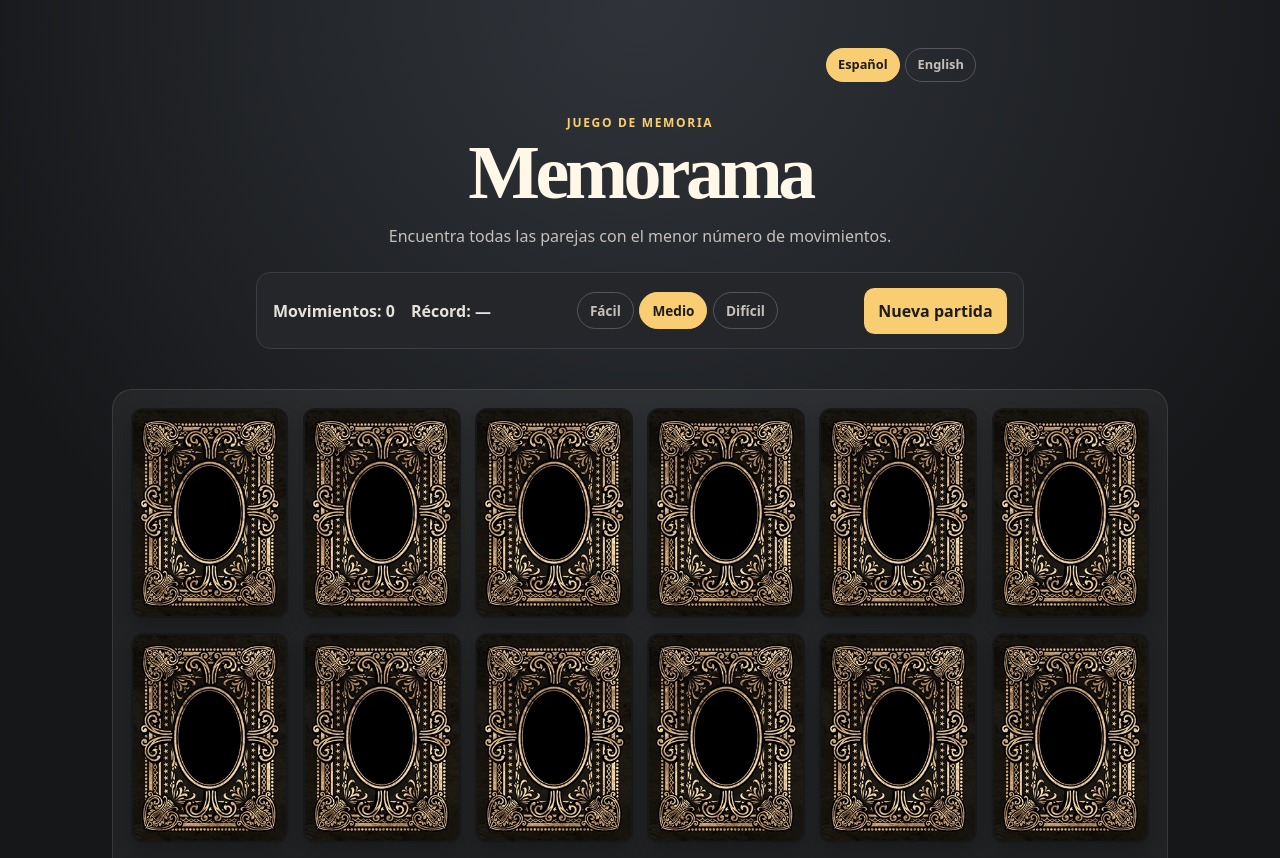
it: App › deals the right number of cards for Fácil and remembers the choice
The width and height of the screenshot is (1280, 858).
Click the button "Fácil" at (605, 311), box [577,292,634,329]
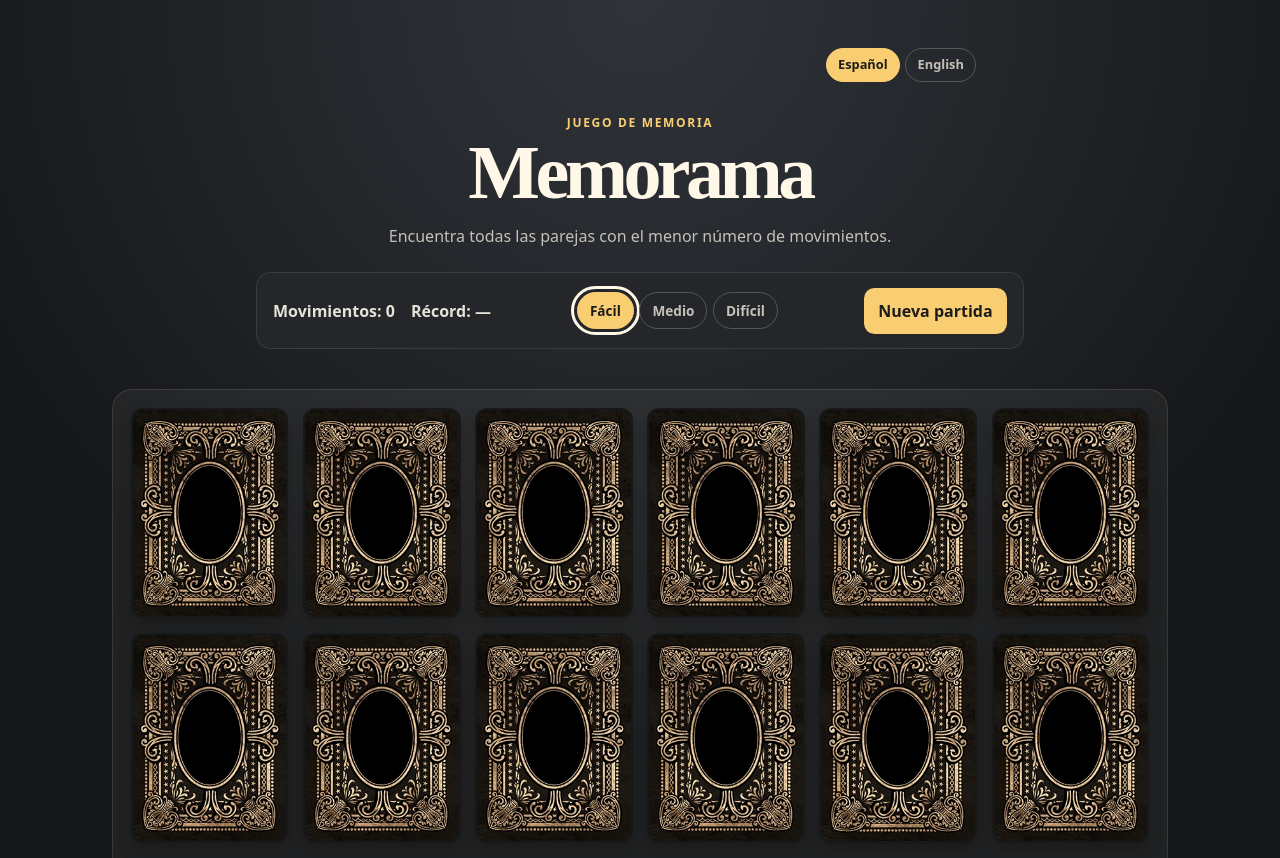
Expected: the number of buttons named "Carta oculta" is 16
